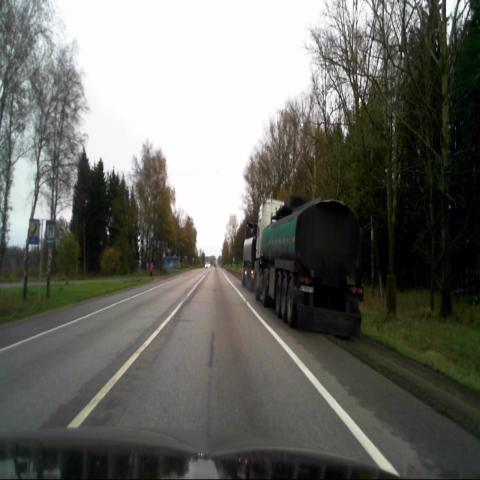7_6: (29, 219, 39, 244)
7_7: (46, 221, 55, 245)
